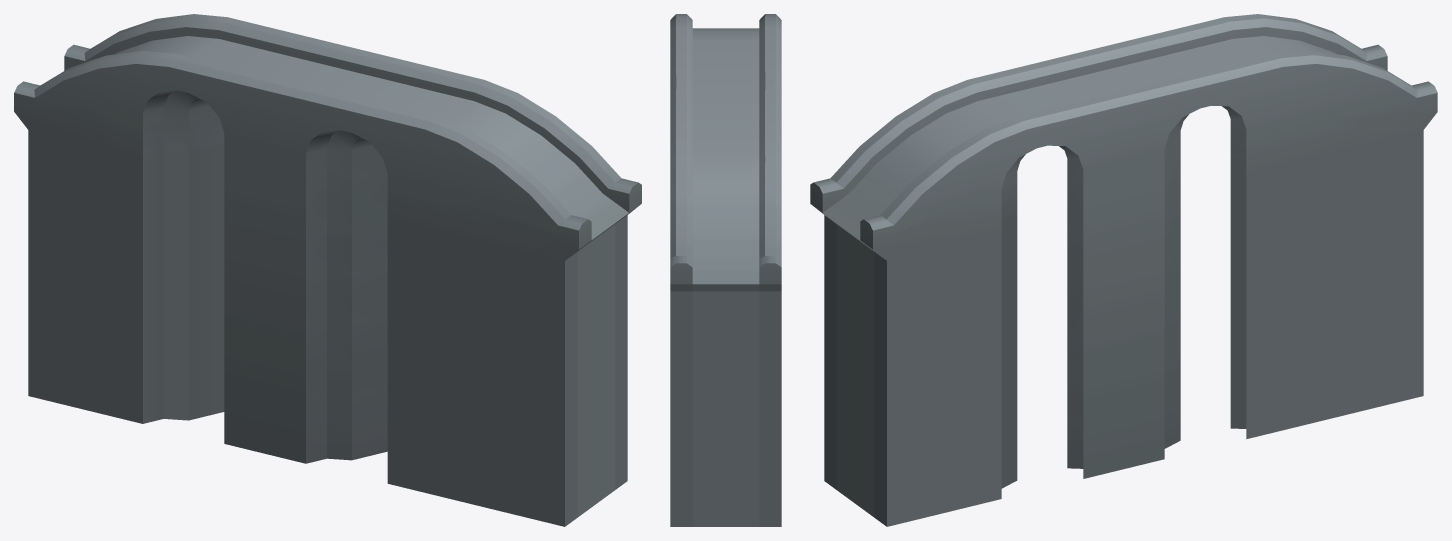
Rendered from building_bridge_a.glb.
3 views of the same model, side by side, from view 1: azimuth 30°, elevation 25°; view 2: azimuth 150°, elevation 25°; view 3: azimuth 270°, elevation 25° (orthographic). The views are drawn at different scales.
Visible parts, largest first — view 1: building_bridge_A; view 2: building_bridge_A; view 3: building_bridge_A.
Boxes of the visible parts, x1,y1,x2,y2 form: building_bridge_A: [14, 14, 641, 526]; building_bridge_A: [670, 14, 781, 526]; building_bridge_A: [810, 14, 1437, 526].
Bounding box in the file's own units: 1.33 × 1.25 × 1.92.
1 material, 1 textured.
